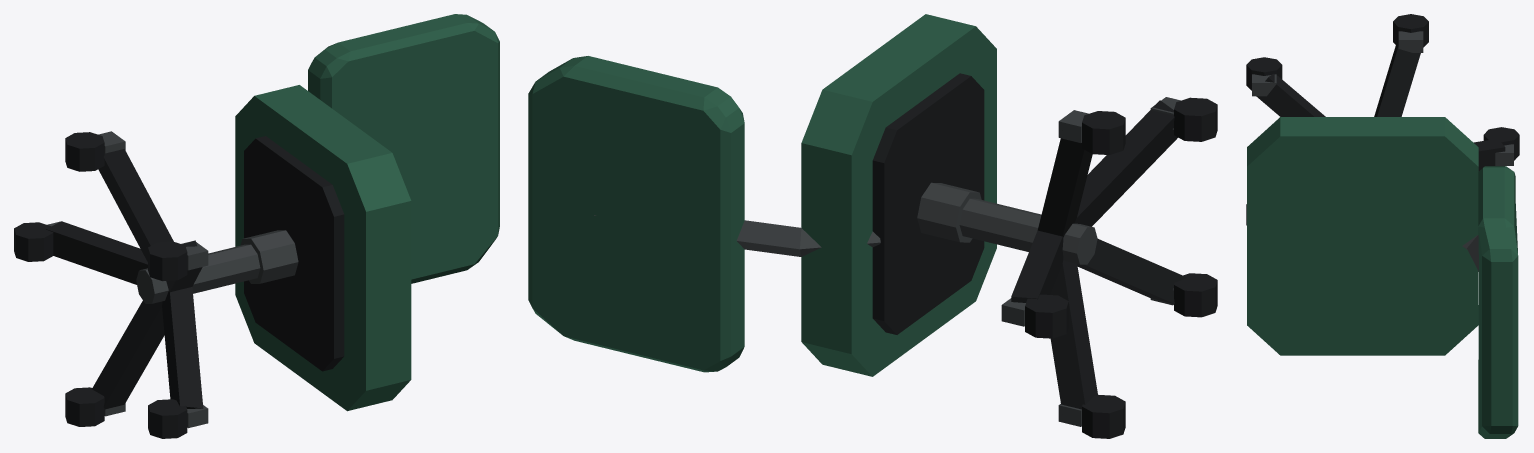
The model's file is chair_tipped.glb.
The picture shows the model from 3 angles, left to right: view 1: azimuth 30°, elevation 25°; view 2: azimuth 150°, elevation 25°; view 3: azimuth 270°, elevation 25°; orthographic projection. The views are drawn at different scales.
Parts seen in each view (by area): view 1: Respaldo, Asiento, Bandeja, Columna, Radio.004, Radio.003, Radio.001, Radio, Rueda.001, Rueda.002, Rueda, Rueda.003 (+3 smaller); view 2: Respaldo, Asiento, Bandeja, Columna, Radio.002, Radio.004, Radio.001, Radio.003, Radio, Soporte curvado, Rueda.001, Rueda.002 (+4 smaller); view 3: Asiento, Respaldo, Radio.001, Radio.002, Rueda.001, Rueda.002, Radio, Rueda, Horquilla.001, Horquilla.002, Horquilla, Soporte curvado.
Part boxes in pixels (x1,y1,x2,y2): Respaldo: [308, 14, 499, 283]; Asiento: [235, 85, 411, 411]; Bandeja: [244, 136, 344, 371]; Columna: [136, 230, 298, 303]; Radio.004: [92, 301, 164, 409]; Radio.003: [162, 287, 203, 408]; Radio.001: [98, 149, 173, 261]; Radio: [46, 221, 147, 284]; Rueda.001: [65, 132, 104, 171]; Rueda.002: [148, 241, 187, 281]; Rueda: [14, 222, 53, 261]; Rueda.003: [148, 399, 187, 438]; Respaldo: [528, 56, 744, 372]; Asiento: [801, 14, 996, 376]; Bandeja: [872, 73, 984, 334]; Columna: [917, 182, 1097, 264]; Radio.002: [1074, 100, 1177, 226]; Radio.004: [1050, 259, 1097, 409]; Radio.001: [1037, 138, 1092, 237]; Radio.003: [1077, 239, 1186, 303]; Radio: [1011, 230, 1063, 302]; Soporte curvado: [594, 215, 880, 256]; Rueda.001: [1082, 111, 1125, 154]; Rueda.002: [1174, 97, 1217, 141]; Asiento: [1247, 117, 1478, 355]; Respaldo: [1478, 166, 1518, 438]; Radio.001: [1374, 37, 1420, 116]; Radio.002: [1256, 74, 1325, 116]; Rueda.001: [1393, 14, 1428, 47]; Rueda.002: [1246, 57, 1282, 90]; Radio: [1473, 138, 1505, 171]; Rueda: [1483, 127, 1519, 160]; Horquilla.001: [1398, 31, 1423, 52]; Horquilla.002: [1252, 74, 1276, 96]; Horquilla: [1495, 144, 1513, 165]; Soporte curvado: [1462, 235, 1478, 271].
Bounding box in the file's own units: 0.95 × 0.529 × 0.5313.
